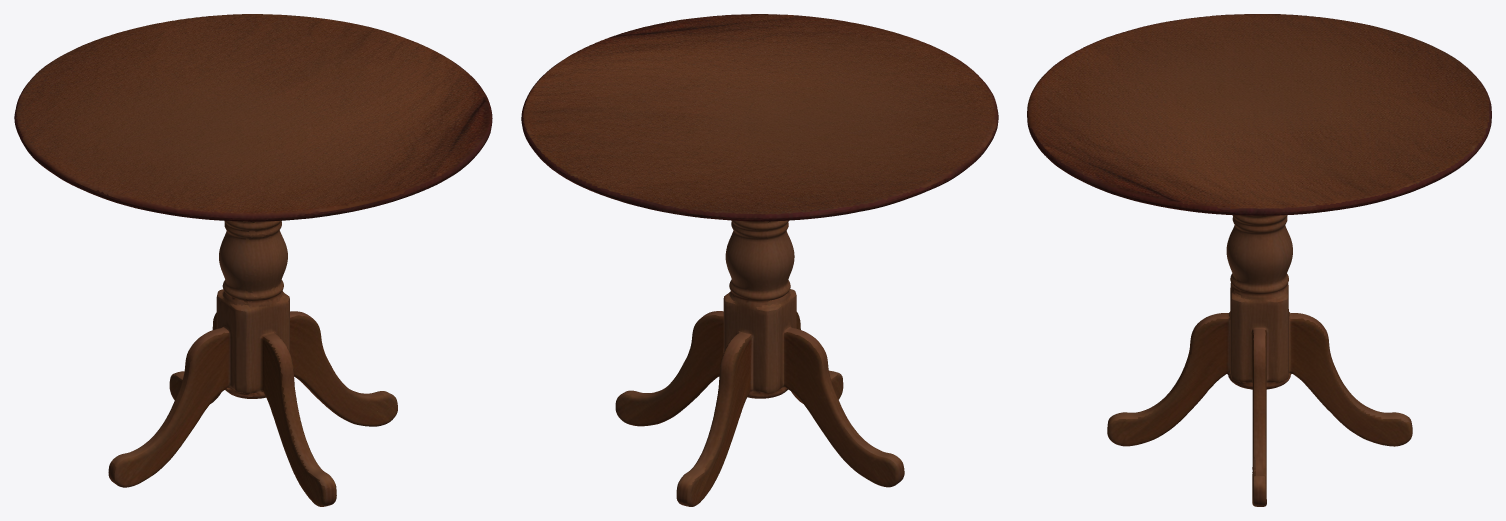
File: table__table#5.glb
3 renders of one model, left to right at view 1: azimuth 30°, elevation 25°; view 2: azimuth 150°, elevation 25°; view 3: azimuth 270°, elevation 25°, orthographic. The views are drawn at different scales.
Visible parts, largest first — view 1: tmp7lli_i6w.ply; view 2: tmp7lli_i6w.ply; view 3: tmp7lli_i6w.ply.
Boxes of the visible parts, box(x1,y1,x2,y2) form: tmp7lli_i6w.ply: box(14, 14, 492, 506); tmp7lli_i6w.ply: box(521, 14, 998, 506); tmp7lli_i6w.ply: box(1027, 14, 1491, 506).
Bounding box in the file's own units: 1.99 × 1.57 × 1.99.
1 material, 1 textured.
